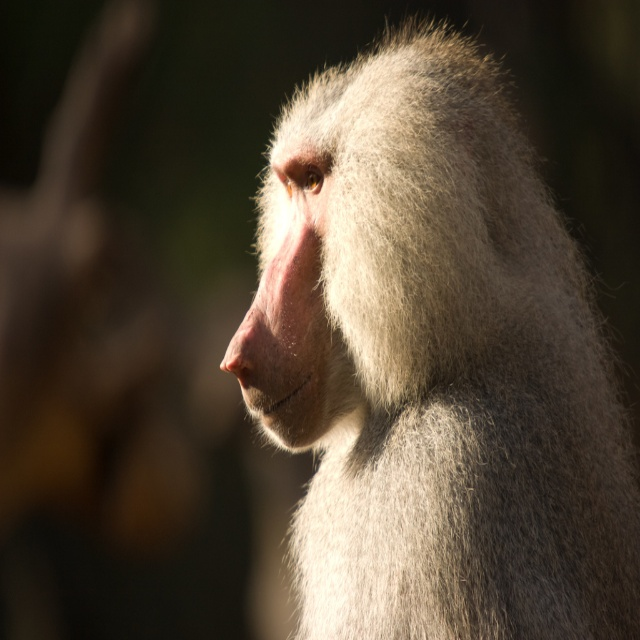Monkey: (207, 2, 631, 640)
